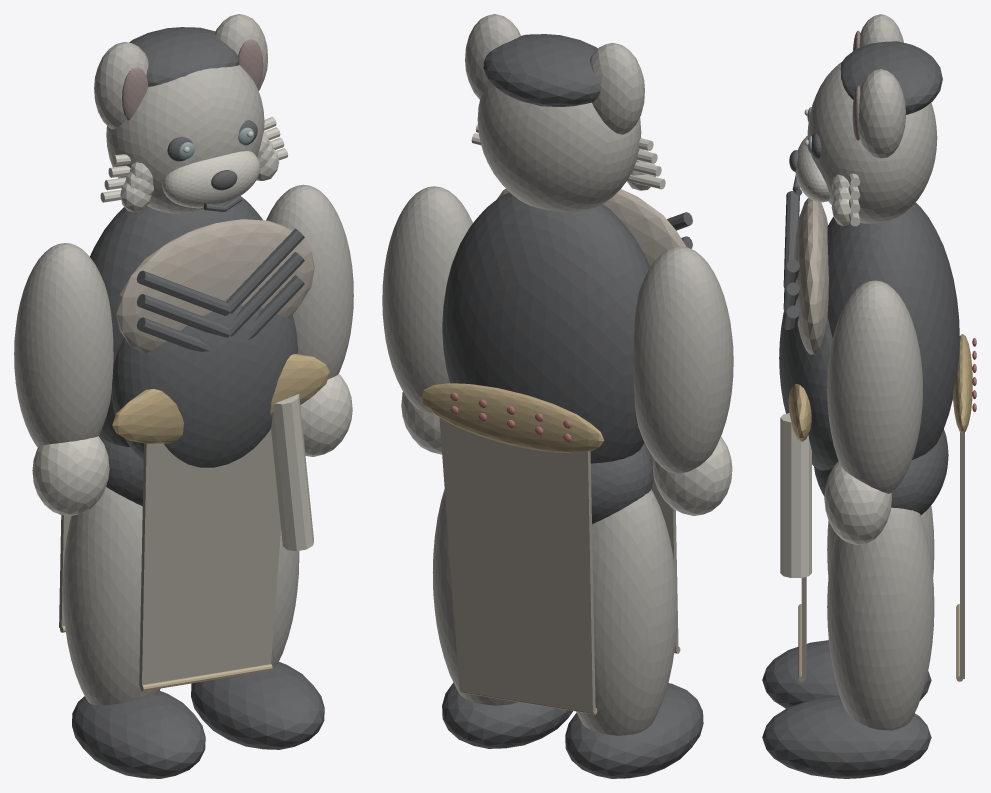
The model's file is profound_prototype (4).glb.
3 renders of one model, left to right at view 1: azimuth 30°, elevation 25°; view 2: azimuth 150°, elevation 25°; view 3: azimuth 270°, elevation 25°, orthographic. The views are drawn at different scales.
Visible parts, largest first — view 1: front_skirt_047, belly_clothing_003, arm_-1_006, leg_-1_004, head_016, white_chest_041, arm_1_012, paw_-1_005, paw_1_011, torso_001, gold_belt_045, hand_-1_007 (+16 smaller); view 2: torso_001, rear_skirt_049, arm_-1_006, leg_-1_004, head_016, arm_1_012, rear_sash_051, paw_-1_005, dark_crown_032, paw_1_011, ear_-1_008, hand_-1_007 (+6 smaller); view 3: leg_1_010, arm_1_012, torso_001, head_016, paw_1_011, sash_end_046, belly_clothing_003, white_chest_041, dark_crown_032, hand_1_013, paw_-1_005, ear_1_014 (+10 smaller).
Part boxes in pixels (<box>): front_skirt_047: <box>139,429,280,687</box>; belly_clothing_003: <box>111,305,297,467</box>; arm_-1_006: <box>14,243,113,447</box>; leg_-1_004: <box>63,487,160,705</box>; head_016: <box>106,65,264,213</box>; white_chest_041: <box>116,219,314,353</box>; arm_1_012: <box>266,184,353,379</box>; paw_-1_005: <box>72,691,205,778</box>; paw_1_011: <box>191,662,324,749</box>; torso_001: <box>90,196,262,446</box>; gold_belt_045: <box>112,354,330,443</box>; hand_-1_007: <box>32,436,109,516</box>; torso_001: <box>442,192,650,463</box>; rear_skirt_049: <box>439,417,595,712</box>; arm_-1_006: <box>633,246,733,473</box>; leg_-1_004: <box>576,489,677,735</box>; head_016: <box>477,83,641,211</box>; arm_1_012: <box>382,186,472,413</box>; rear_sash_051: <box>420,383,604,452</box>; paw_-1_005: <box>565,683,703,778</box>; dark_crown_032: <box>483,34,600,106</box>; paw_1_011: <box>442,682,572,748</box>; ear_-1_008: <box>590,43,644,134</box>; hand_-1_007: <box>652,436,732,515</box>; leg_1_010: <box>827,507,934,730</box>; arm_1_012: <box>827,280,922,493</box>; torso_001: <box>827,202,959,459</box>; head_016: <box>807,62,937,223</box>; paw_1_011: <box>762,696,931,778</box>; sash_end_046: <box>780,413,811,577</box>; belly_clothing_003: <box>779,311,838,470</box>; white_chest_041: <box>794,198,828,354</box>; dark_crown_032: <box>840,41,942,114</box>; hand_1_013: <box>824,461,891,544</box>; paw_-1_005: <box>762,640,931,708</box>; ear_1_014: <box>858,69,906,158</box>.
Bounding box in the file's own units: 0.66 × 1.37 × 0.38.
